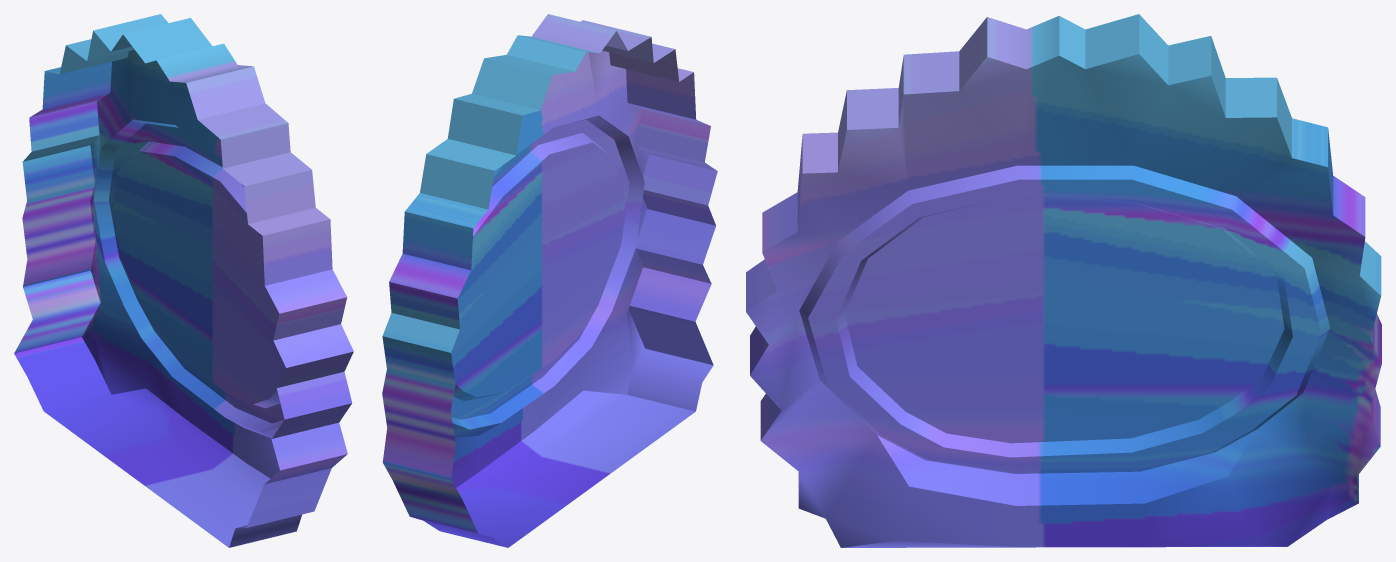
Rendered from RT_Reilef02.FBX.
3 views of the same model, side by side, from view 1: azimuth 30°, elevation 25°; view 2: azimuth 150°, elevation 25°; view 3: azimuth 270°, elevation 25° (orthographic). The views are drawn at different scales.
Visible parts, largest first — view 1: DDDDDDDDD11; view 2: DDDDDDDDD11; view 3: DDDDDDDDD11.
Boxes of the visible parts, x1=… form: DDDDDDDDD11: x1=14, y1=14, x2=353, y2=547; DDDDDDDDD11: x1=382, y1=14, x2=717, y2=547; DDDDDDDDD11: x1=746, y1=14, x2=1381, y2=547.
Size of the model in its own units: 50.96 by 231 by 264.
